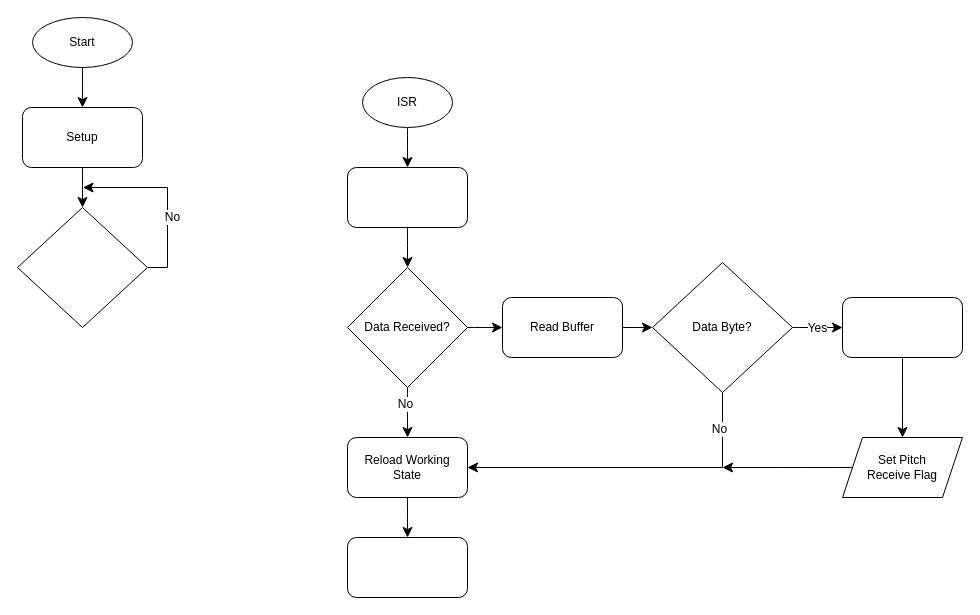
Some shapes in this 980 by 615 pixel diagram are drawn without their labels. The box of each missing label's shape, as (x1, y1, x2, y2) in pixels:
Has Pitch Been Received?: (16, 206, 148, 328)
Return: (346, 536, 468, 598)
Save Working State: (346, 166, 468, 228)
Store Received Data: (842, 296, 962, 358)
